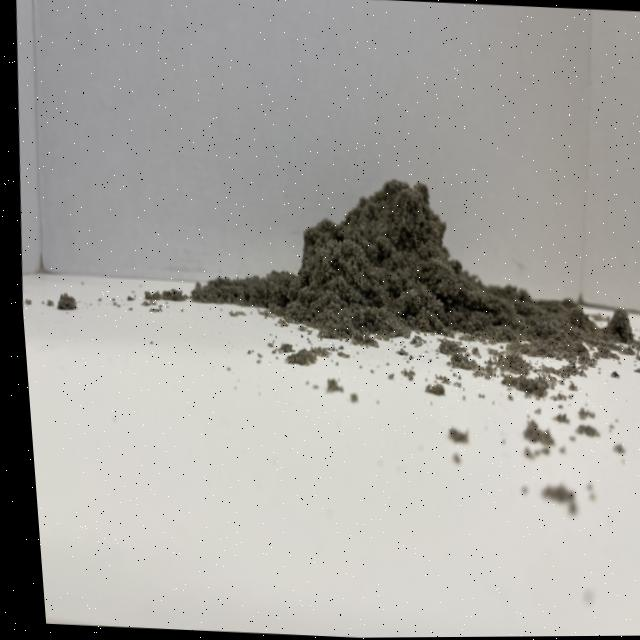sand: (188, 151, 612, 359)
